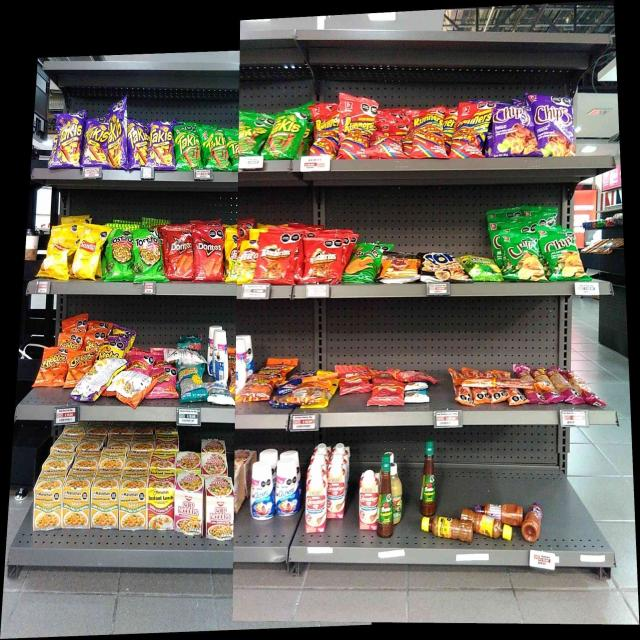bitzAlmendras: (406, 390, 428, 404)
bitzEnchilado90: (340, 365, 370, 393), (372, 378, 403, 405)
bitzEnchilado95: (466, 377, 551, 391)
bitzHabanero: (555, 368, 604, 408)
bokadosCacahuates: (273, 381, 295, 407)
botaneraChilito: (419, 516, 469, 542), (474, 516, 510, 542)
cheetosFlaminHot: (102, 339, 129, 357)
cheetosOriginal: (40, 352, 68, 386), (68, 352, 92, 374), (58, 333, 83, 350), (84, 333, 101, 350)
chipsFuego: (535, 97, 575, 156), (492, 110, 534, 156)
chipsJalapeno: (501, 231, 542, 282), (544, 228, 582, 280)
chipsPapatinas: (472, 256, 500, 282)
churrumais: (152, 368, 178, 396), (131, 351, 150, 373)
delPrimoSalsa: (395, 473, 402, 522)
doritosNacho: (194, 226, 224, 281), (162, 229, 193, 280)
fritosLimon: (237, 242, 259, 280), (224, 234, 237, 282)
hotNutsOriginal: (381, 252, 420, 281)
leoCacahuates: (206, 382, 228, 403)
leoMix: (247, 373, 272, 400)
maruchanPollo: (34, 467, 62, 528), (120, 467, 146, 531), (64, 466, 90, 529), (91, 469, 118, 529)
maruchanRes: (148, 468, 174, 531)
nestleCarnation: (306, 476, 326, 533), (360, 472, 376, 530), (328, 467, 346, 517)
nestleLechera: (252, 462, 274, 520), (276, 462, 300, 514), (213, 329, 228, 380), (236, 339, 245, 389)
nissinRes: (176, 472, 205, 536), (207, 475, 233, 541)
popKarameladas: (420, 252, 470, 281)
productoAtras: (94, 361, 124, 393), (298, 380, 329, 402), (126, 375, 150, 403), (166, 348, 204, 363), (76, 376, 93, 400)
rancheritos: (260, 234, 302, 283), (303, 237, 345, 283)
rufflesQueso: (346, 248, 381, 284)
runners: (340, 95, 373, 160), (456, 105, 489, 158), (411, 111, 444, 158), (308, 107, 338, 156), (375, 134, 402, 159), (445, 108, 455, 158)
sabritasOriginal: (74, 225, 103, 279), (48, 227, 72, 279)
salsaBufalo: (378, 457, 393, 536), (422, 442, 435, 514)
semillasGirasol: (179, 366, 204, 402)
tajinDulce: (524, 500, 542, 542), (474, 502, 522, 514)
takisFuego: (54, 114, 82, 167), (149, 122, 174, 169), (84, 120, 108, 167), (110, 108, 128, 168), (129, 119, 148, 168)
takisOriginal: (265, 115, 301, 161), (201, 130, 229, 170), (175, 126, 200, 170), (240, 116, 264, 154), (230, 130, 239, 171)
tostitos: (133, 230, 161, 282), (106, 224, 131, 282)
